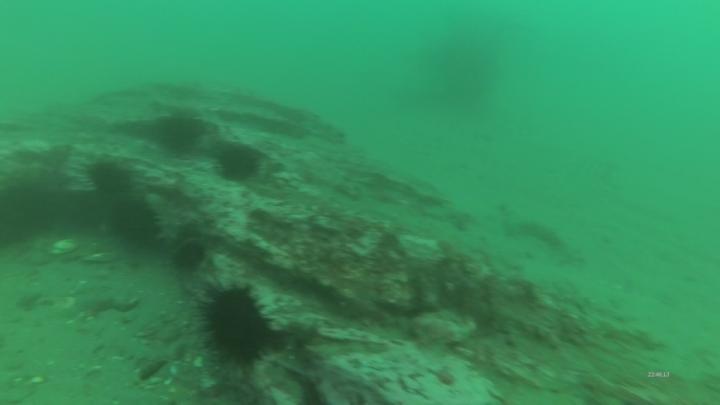echinus: (191, 281, 275, 374), (107, 198, 162, 250), (151, 114, 208, 161), (87, 161, 136, 207), (216, 145, 263, 185), (172, 240, 209, 273)
